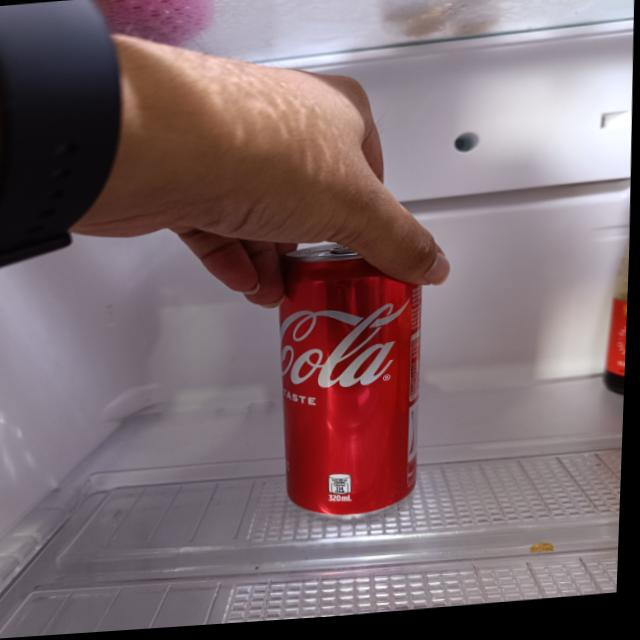coke: (276, 238, 423, 525)
